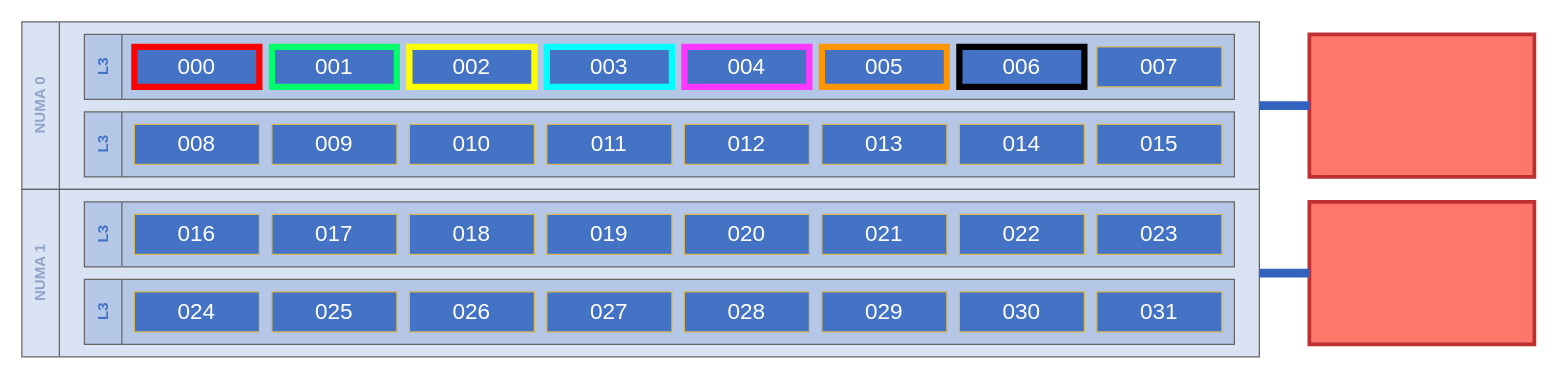
Image size: 1558x379. Some labels were removed from this diagram. The shapes that lost their labels are listed below. From the top down, each one's centre as x and y in pixels, then its label:
At point 1421,105: "GPU 3".
At point 1421,272: "GPU 0".
